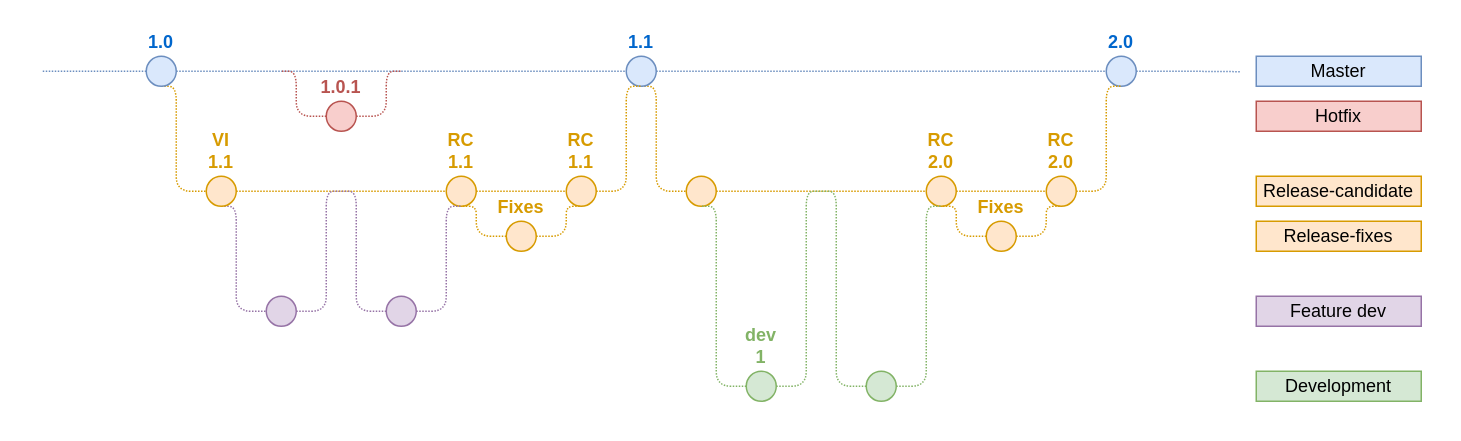
Some shapes in this 1461 by 441 pixel diagram are drawn without their labels. Here are the shapes that lost their labels. From the top down, the centre of each, then its label:
point (700, 190): VI 2.0
point (280, 310): feat 1
point (400, 310): feat 2
point (880, 385): dev 2
